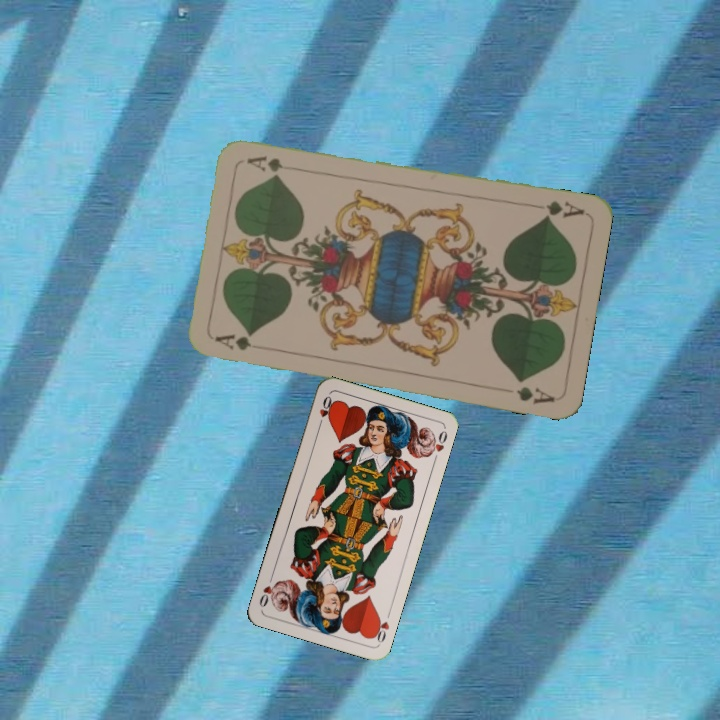GA: (540, 197, 587, 222), (211, 330, 254, 353)
HO: (369, 606, 393, 646), (314, 391, 334, 431)
